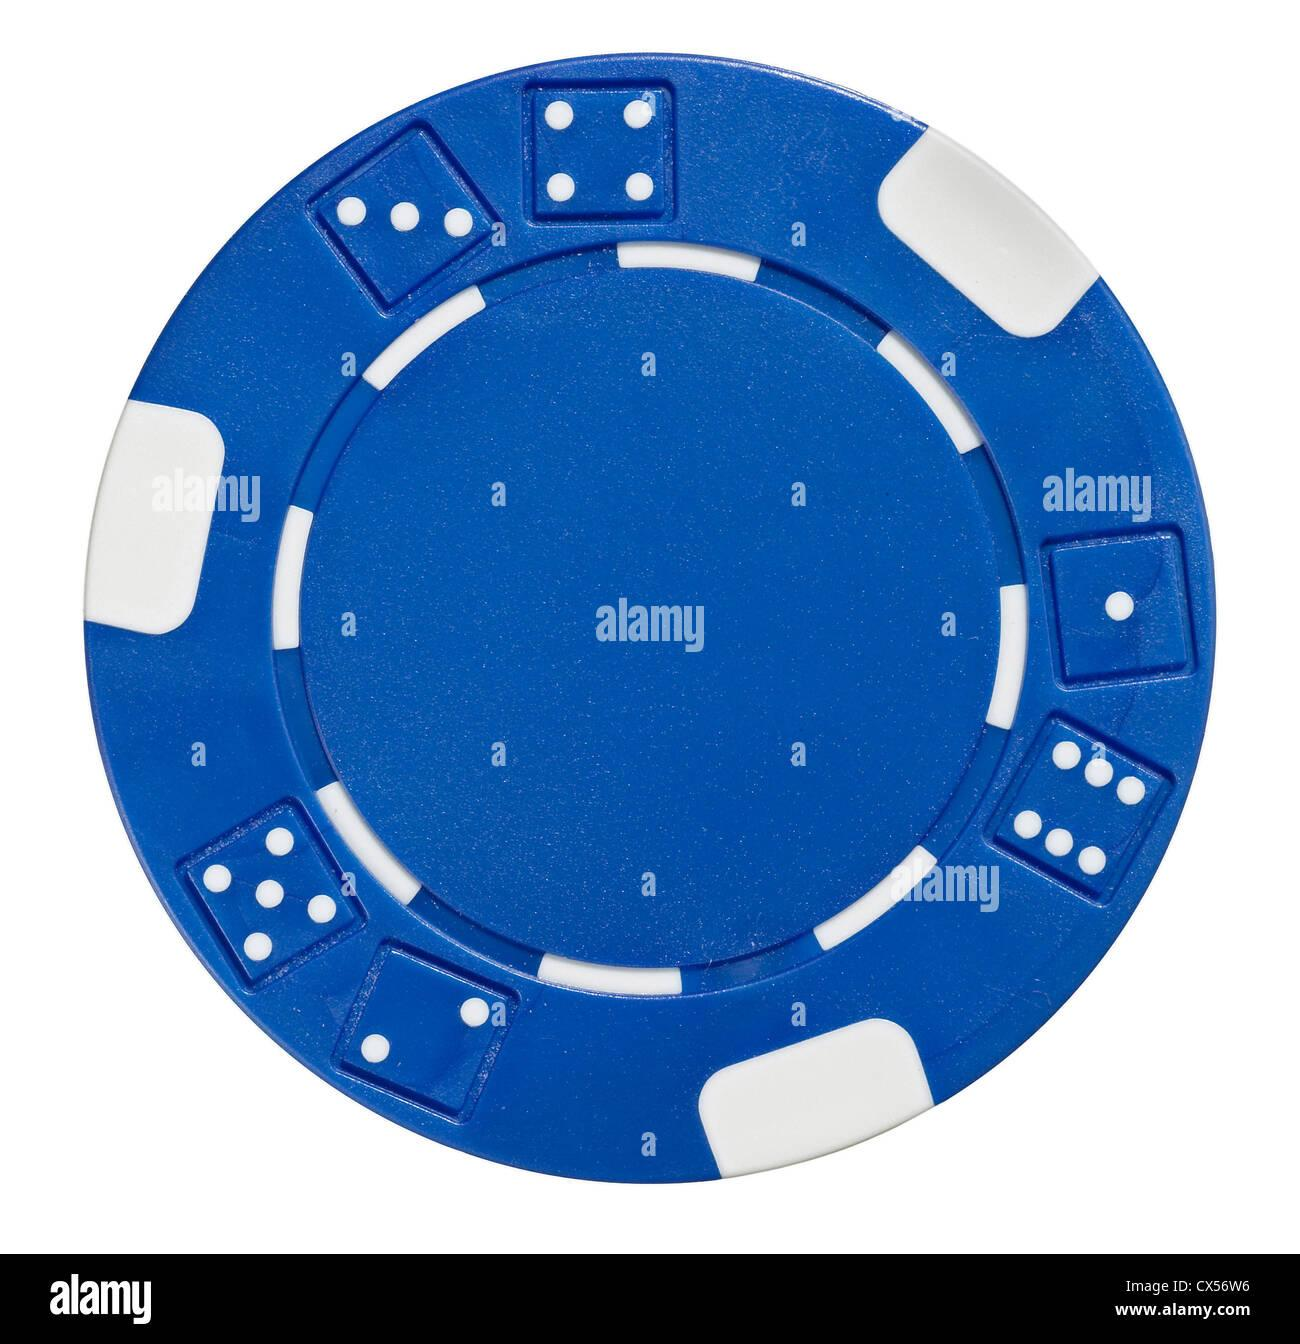chip-blue: (86, 55, 1212, 1180)
